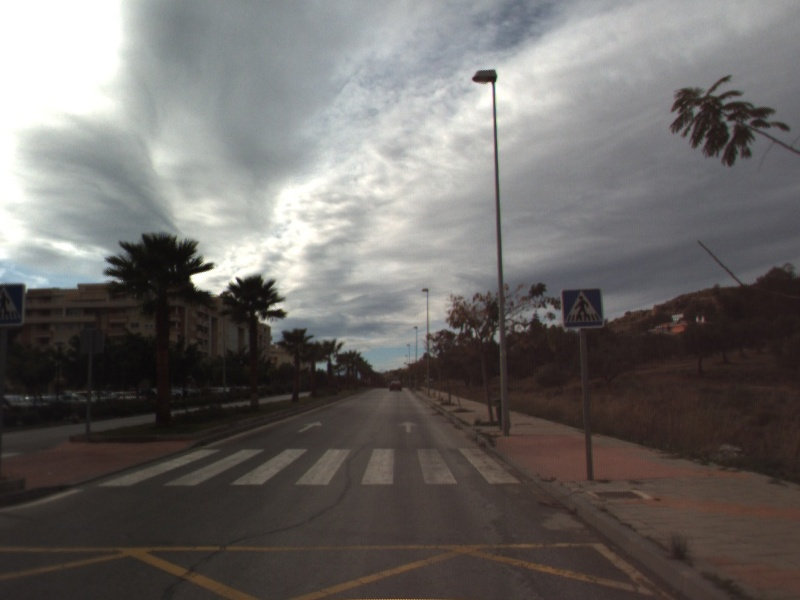STRAIGHT: (295, 419, 324, 435), (395, 418, 420, 435)
